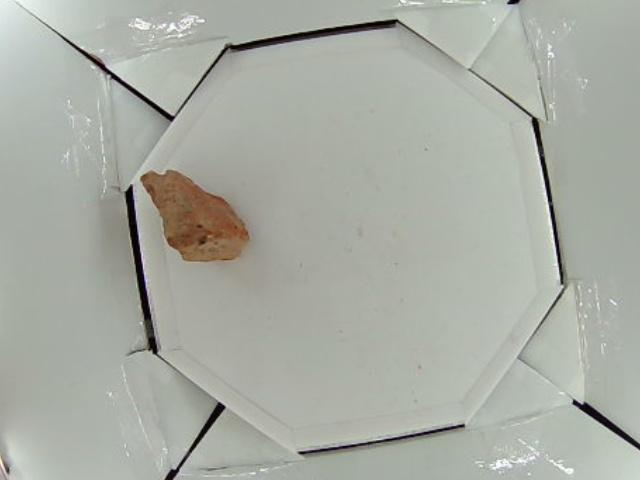Brisk: (136, 170, 248, 259)
